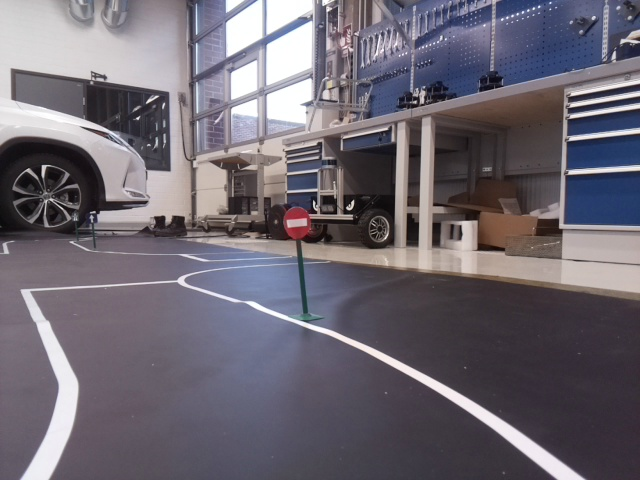NoEntry: (281, 205, 311, 237)
